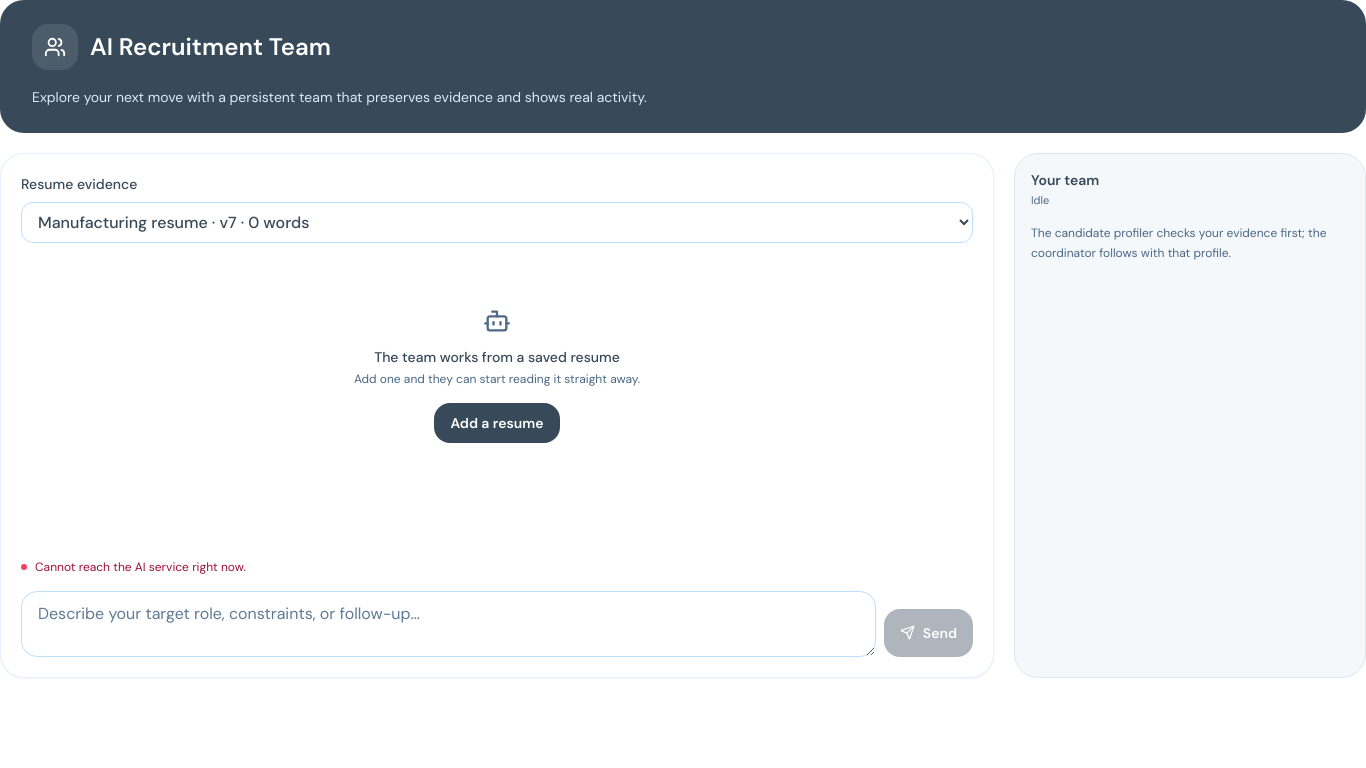
Test case: RecruitmentTeamPanel › runs autopilot once with the same request shown on its button
Select "Manufacturing resume · v7 · 0 words" in the dropdown labelled "Resume evidence". click: (497, 222)
box: left=21, top=202, right=973, bottom=243
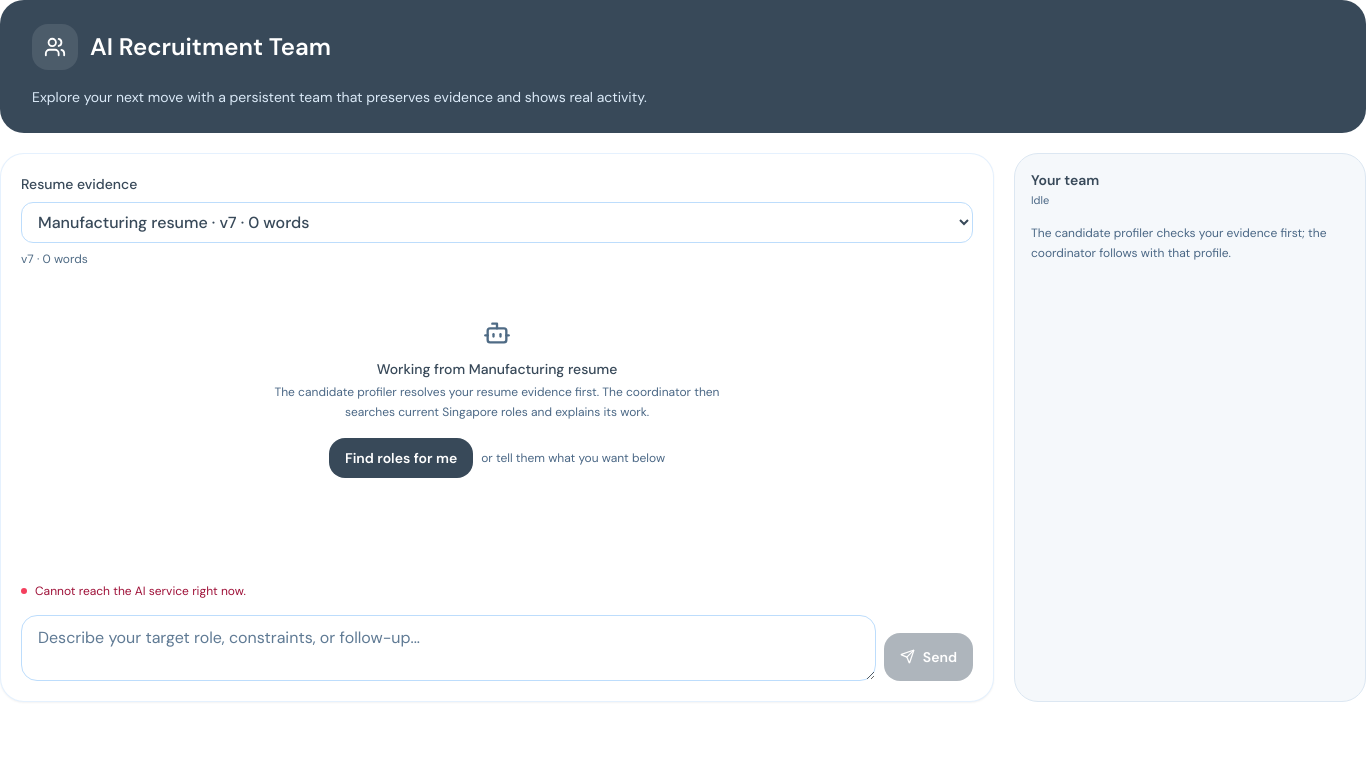
Click the button "Find roles for me". click: (401, 458)
box: left=329, top=438, right=473, bottom=478
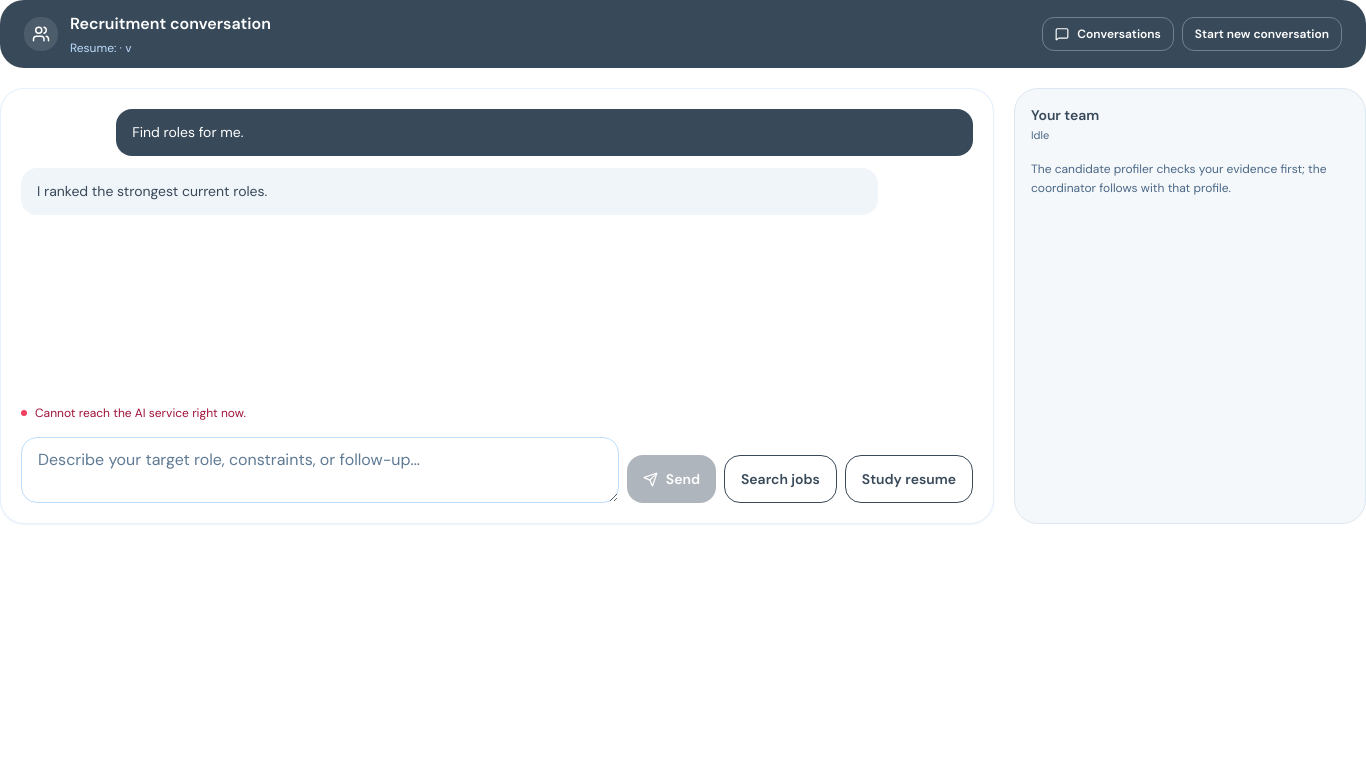
Expected: the text "I ranked the strongest current roles." is shown, left=21, top=168, right=878, bottom=215
